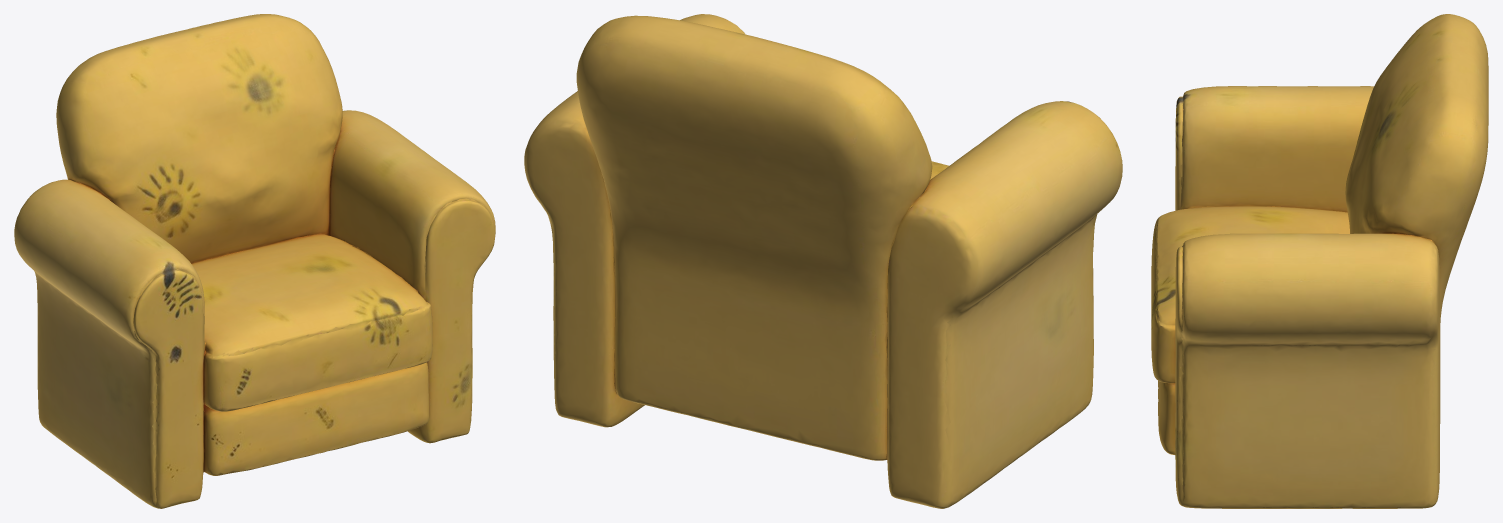
File: armchair.glb
3 views of the same model, side by side, from view 1: azimuth 30°, elevation 25°; view 2: azimuth 150°, elevation 25°; view 3: azimuth 270°, elevation 25° (orthographic). The views are drawn at different scales.
Visible parts, largest first — view 1: Mesh; view 2: Mesh; view 3: Mesh.
Boxes of the visible parts, box(x1,y1,x2,y2) form: Mesh: box(14, 14, 495, 508); Mesh: box(524, 14, 1122, 508); Mesh: box(1151, 14, 1488, 508).
Size of the model in its own units: 1.9 by 1.69 by 1.39.
1 material, 1 textured.
